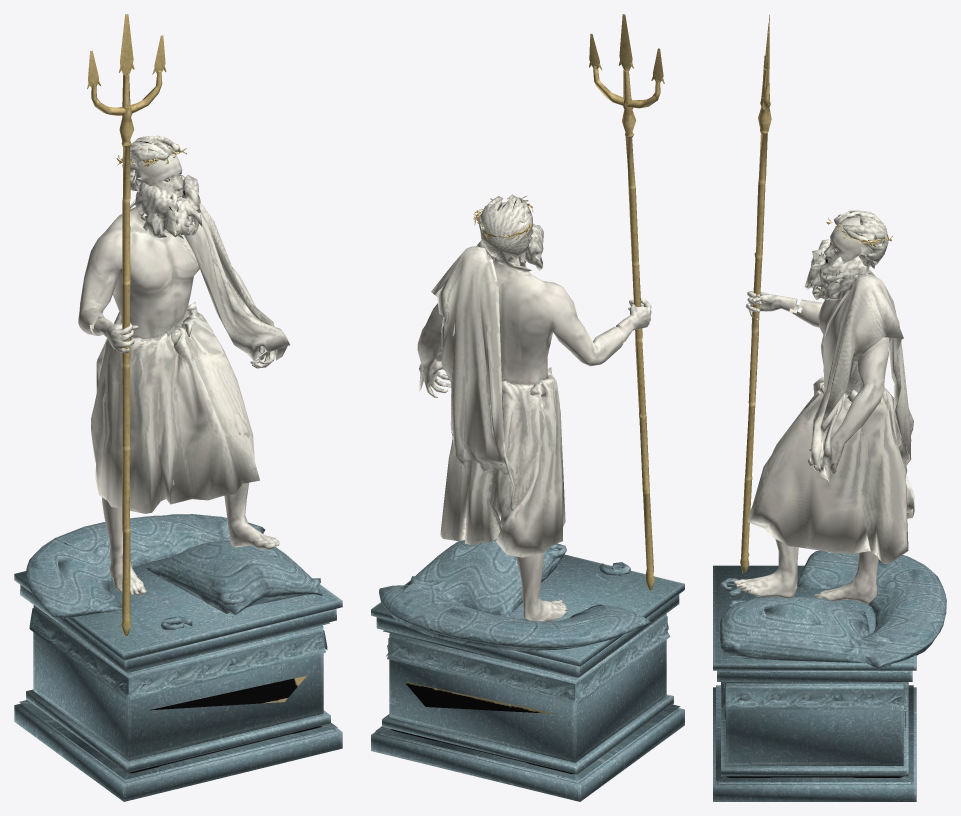
File: guardian-tides-lod1.glb
The picture shows the model from 3 angles, left to right: view 1: azimuth 30°, elevation 25°; view 2: azimuth 150°, elevation 25°; view 3: azimuth 270°, elevation 25°; orthographic projection. The views are drawn at different scales.
Visible parts, largest first — view 1: TIDES__PEDESTAL, TIDES__CLOTH, TIDES__WAVES, TIDES__BODY, TIDES__TRIDENT, TIDES__HAIR_BEARD, TIDES__DETAILS, TIDES__FACE, TIDES__HAND_GRIP; view 2: TIDES__PEDESTAL, TIDES__CLOTH, TIDES__WAVES, TIDES__BODY, TIDES__TRIDENT, TIDES__HAIR_BEARD, TIDES__DETAILS, TIDES__HAND_GRIP; view 3: TIDES__PEDESTAL, TIDES__CLOTH, TIDES__WAVES, TIDES__BODY, TIDES__TRIDENT, TIDES__HAIR_BEARD, TIDES__FACE, TIDES__HAND_GRIP.
Boxes of the visible parts, box(x1,y1,x2,y2) form: TIDES__PEDESTAL: box(14, 557, 342, 801); TIDES__CLOTH: box(91, 202, 289, 513); TIDES__WAVES: box(25, 514, 322, 630); TIDES__BODY: box(78, 170, 279, 595); TIDES__TRIDENT: box(87, 14, 166, 636); TIDES__HAIR_BEARD: box(122, 135, 202, 239); TIDES__DETAILS: box(116, 144, 306, 710); TIDES__FACE: box(135, 144, 182, 201); TIDES__HAND_GRIP: box(92, 317, 138, 353); TIDES__PEDESTAL: box(371, 554, 684, 801); TIDES__CLOTH: box(419, 246, 565, 557); TIDES__WAVES: box(379, 539, 651, 651); TIDES__BODY: box(417, 256, 625, 621); TIDES__TRIDENT: box(589, 14, 664, 590); TIDES__HAIR_BEARD: box(476, 194, 543, 272); TIDES__DETAILS: box(404, 196, 556, 713); TIDES__HAND_GRIP: box(616, 298, 651, 341); TIDES__PEDESTAL: box(713, 565, 916, 801); TIDES__CLOTH: box(747, 272, 914, 563); TIDES__WAVES: box(719, 550, 946, 667); TIDES__BODY: box(733, 238, 891, 603); TIDES__TRIDENT: box(740, 14, 771, 573); TIDES__HAIR_BEARD: box(804, 210, 888, 300); TIDES__FACE: box(824, 217, 869, 265); TIDES__HAND_GRIP: box(745, 291, 799, 320).
Bounding box in the file's own units: 3.42 × 9.9 × 2.98.
3 materials, 3 textured.
